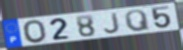2: (49, 17, 74, 42)
5: (149, 6, 173, 30)
8: (75, 15, 97, 38)
J: (103, 11, 121, 34)
O: (22, 19, 48, 45)
Q: (123, 9, 152, 32)
